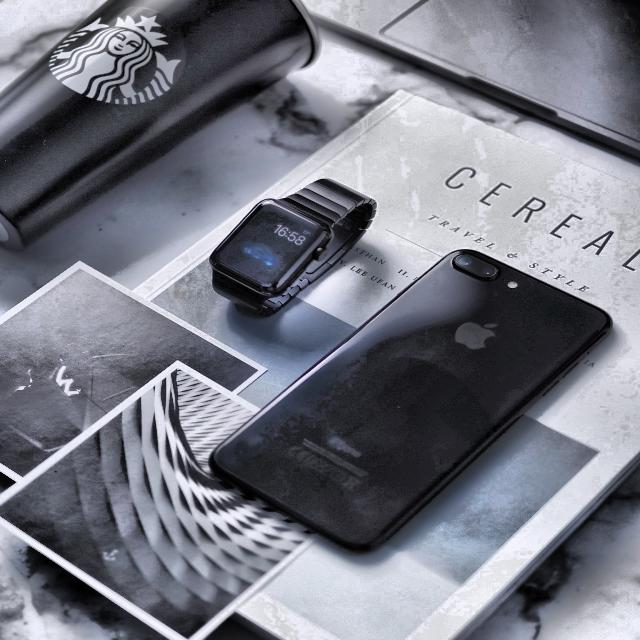Electronic watch: (209, 179, 375, 316)
PHONE: (212, 250, 611, 553)
